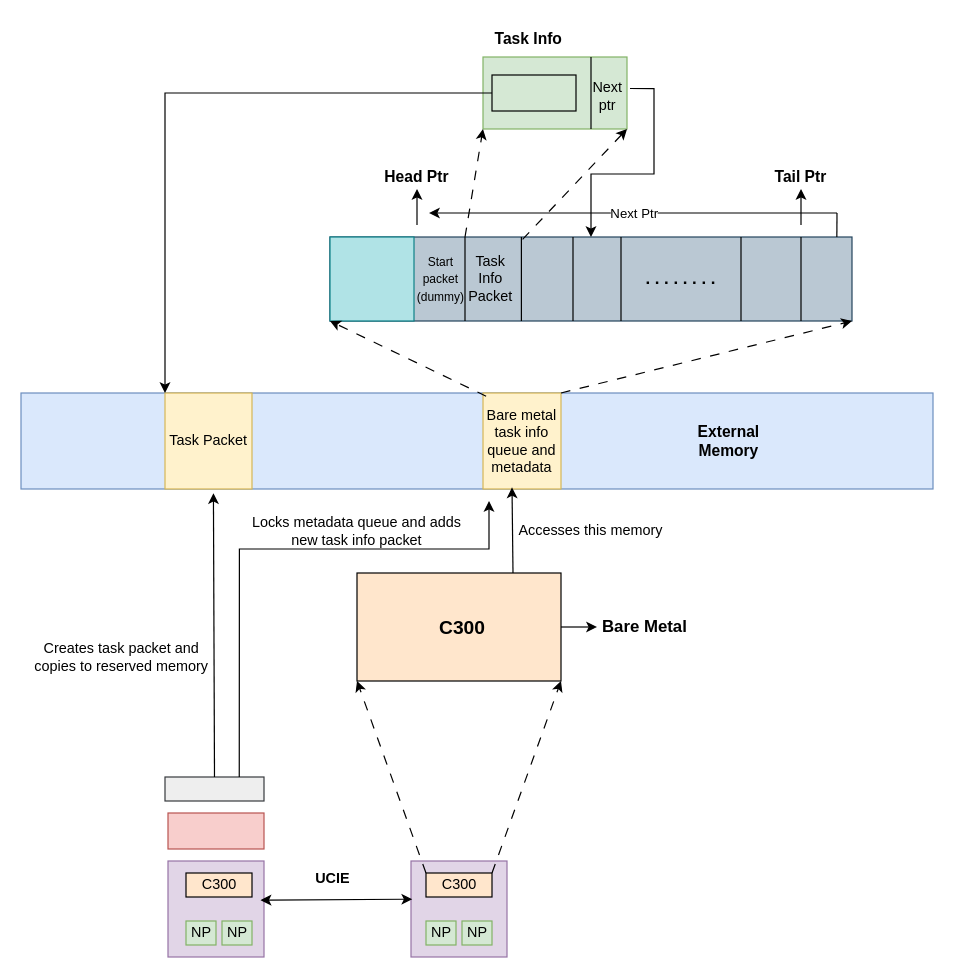
Some shapes in this 954 by 978 pixel diagram are drawn without their labels. The centre of each missing label's shape, as x and y in pixels:
"OS" goes at [215,830].
"R1" goes at [214,788].
"Task Info Queue Metadata" goes at [371,278].
"task packet address" goes at [533,92].
